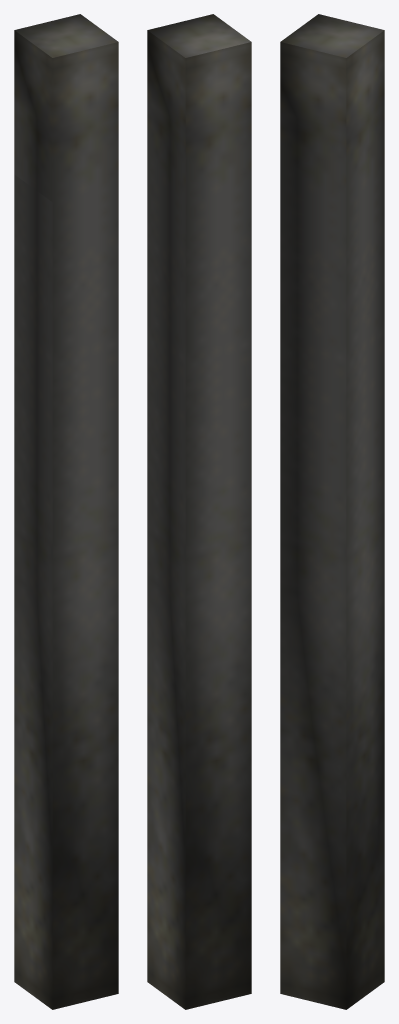
Rendered from trafficlight3.fbx.
The picture shows the model from 3 angles, left to right: view 1: azimuth 30°, elevation 25°; view 2: azimuth 210°, elevation 25°; view 3: azimuth 330°, elevation 25°; orthographic projection.
Parts seen in each view (by area): view 1: trafficlight3; view 2: trafficlight3; view 3: trafficlight3.
Part boxes in pixels (x1=…): trafficlight3: x1=14, y1=14, x2=118, y2=1009; trafficlight3: x1=147, y1=14, x2=251, y2=1009; trafficlight3: x1=280, y1=14, x2=384, y2=1009.
Size of the model in its own units: 24 by 24 by 330.
Materials: 1 (1 with a texture image).
